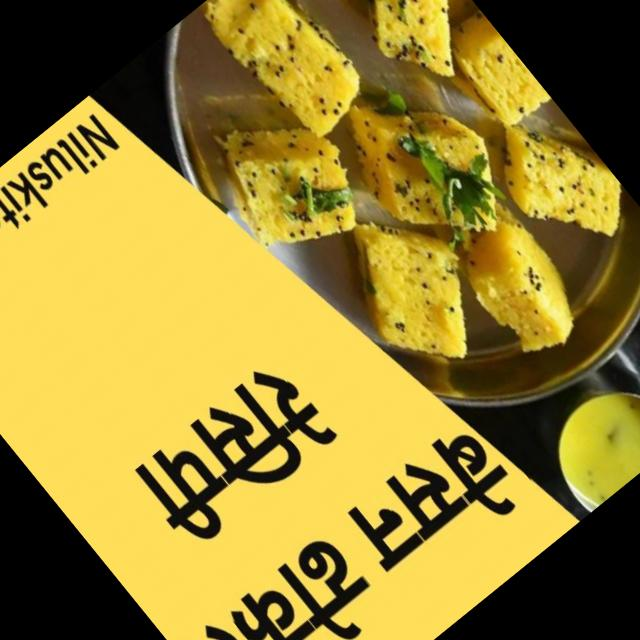dhokla: (114, 0, 640, 449)
